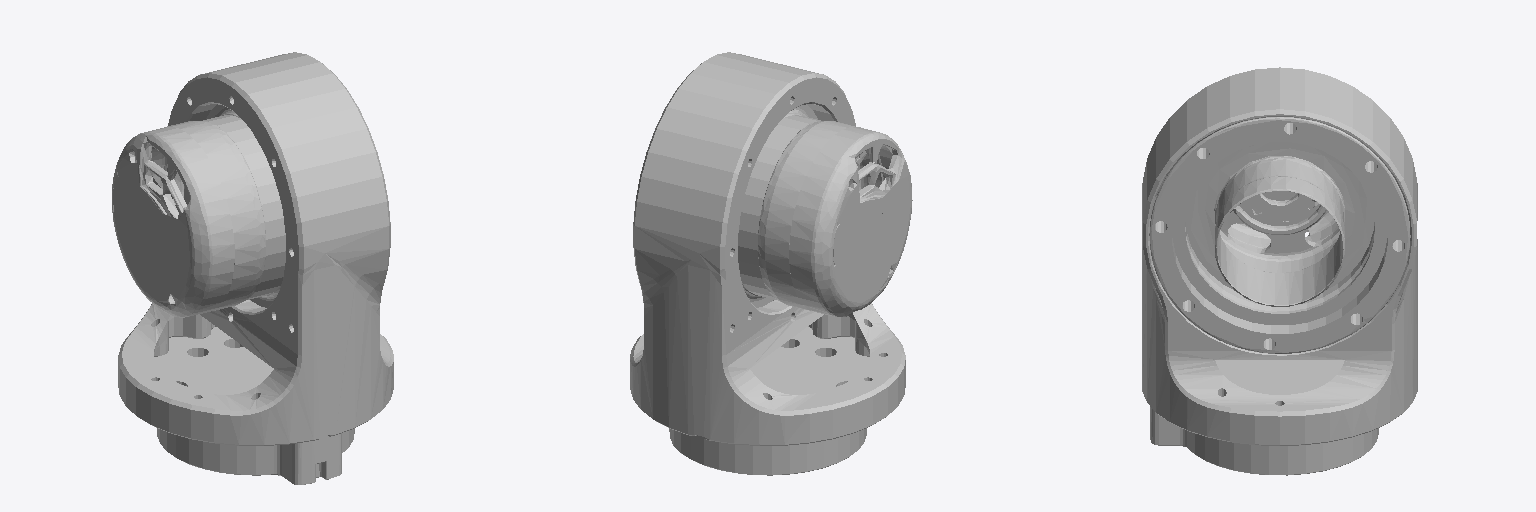
Rendered from left_upper_arm_pitch_link.obj.
The picture shows the model from 3 angles: view 1: azimuth 30°, elevation 25°; view 2: azimuth 150°, elevation 25°; view 3: azimuth 270°, elevation 25°; orthographic projection.
Visible parts, largest first — view 1: left_upper_arm_pitch_link; view 2: left_upper_arm_pitch_link; view 3: left_upper_arm_pitch_link.
Boxes of the visible parts, <box> form: left_upper_arm_pitch_link: <box>112,52,393,484</box>; left_upper_arm_pitch_link: <box>630,52,912,475</box>; left_upper_arm_pitch_link: <box>1142,67,1417,475</box>.
Size of the model in its own units: 0.074 by 0.1055 by 0.074.